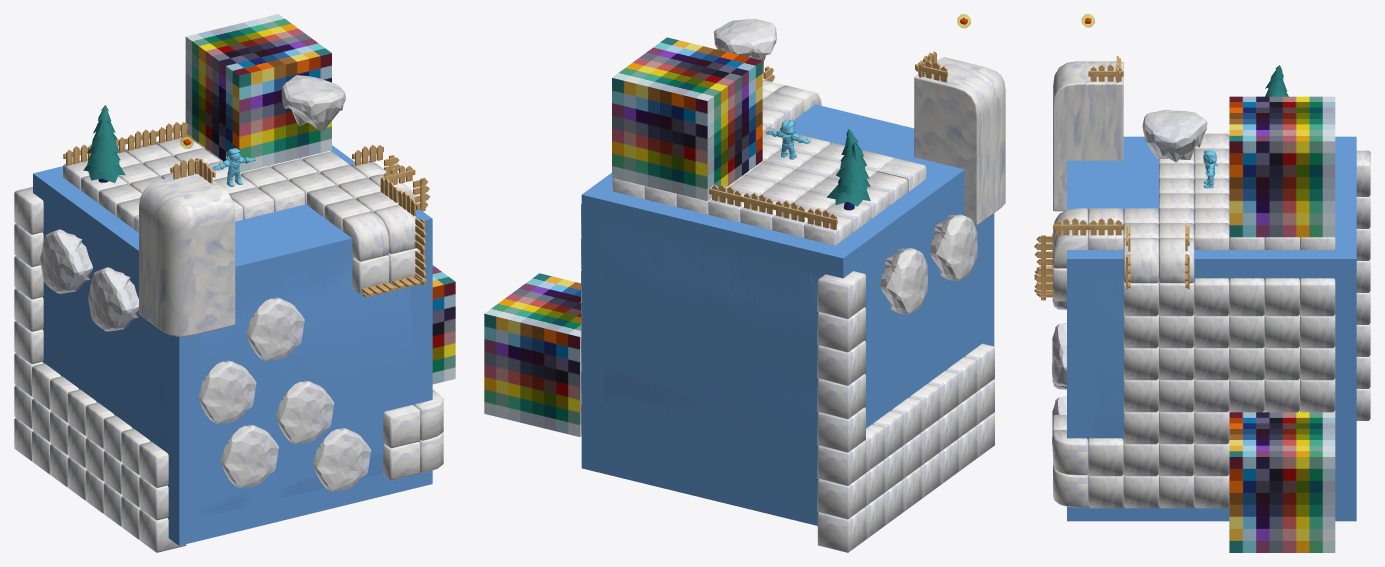
Rendered from Test_LvlCubico_colliders.FBX.
3 renders of one model, left to right at view 1: azimuth 30°, elevation 25°; view 2: azimuth 150°, elevation 25°; view 3: azimuth 270°, elevation 25°, orthographic. The views are drawn at different scales.
Parts seen in each view (by area): view 1: Box235, Agua, Box236, Box233, PROP_Ice_FlyingIsland105, PROP_Ice_FlyingIsland101, PROP_Ice_FlyingIsland102, PROP_Ice_FlyingIsland104, PROP_Ice_FlyingIsland103, Box284, PROP_Ice_FlyingIsland107, PROP_Ice_FlyingIsland106 (+52 smaller); view 2: Box235, Box236, Agua, Box284, Box233, PROP_Ice_FlyingIsland106, PROP_Ice_FlyingIsland107, PROP_Ice_FlyingIsland108, Box285, PROP_Ice_Tree034, Box288, Box286 (+32 smaller); view 3: Box235, Box236, Box284, Box233, Agua, PROP_Ice_FlyingIsland108, Box338, Box339, Box362, Box187, Box267, Box363 (+71 smaller).
Boxes of the visible parts, x1=… form: Box235: x1=33, y1=145, x2=432, y2=545; Agua: x1=151, y1=261, x2=410, y2=517; Box236: x1=185, y1=14, x2=331, y2=172; Box233: x1=139, y1=172, x2=235, y2=336; PROP_Ice_FlyingIsland105: x1=313, y1=428, x2=370, y2=491; PROP_Ice_FlyingIsland101: x1=198, y1=360, x2=256, y2=423; PROP_Ice_FlyingIsland102: x1=247, y1=297, x2=304, y2=360; PROP_Ice_FlyingIsland104: x1=276, y1=380, x2=334, y2=443; PROP_Ice_FlyingIsland103: x1=221, y1=424, x2=278, y2=487; Box284: x1=432, y1=265, x2=455, y2=384; PROP_Ice_FlyingIsland107: x1=40, y1=229, x2=92, y2=293; PROP_Ice_FlyingIsland106: x1=88, y1=267, x2=138, y2=331; Box235: x1=581, y1=104, x2=994, y2=525; Box236: x1=612, y1=37, x2=762, y2=201; Agua: x1=604, y1=223, x2=916, y2=454; Box284: x1=484, y1=273, x2=581, y2=436; Box233: x1=914, y1=57, x2=1005, y2=225; PROP_Ice_FlyingIsland106: x1=930, y1=214, x2=977, y2=280; PROP_Ice_FlyingIsland107: x1=880, y1=248, x2=928, y2=314; PROP_Ice_FlyingIsland108: x1=713, y1=19, x2=776, y2=64; Box285: x1=817, y1=271, x2=865, y2=319; PROP_Ice_Tree034: x1=826, y1=129, x2=870, y2=210; Box288: x1=817, y1=374, x2=865, y2=419; Box286: x1=817, y1=307, x2=865, y2=352; Box235: x1=1067, y1=136, x2=1356, y2=521; Box236: x1=1229, y1=96, x2=1335, y2=237; Box284: x1=1229, y1=412, x2=1335, y2=552; Box233: x1=1053, y1=61, x2=1123, y2=211; Agua: x1=1091, y1=281, x2=1123, y2=439; PROP_Ice_FlyingIsland108: x1=1142, y1=109, x2=1207, y2=162; Box338: x1=1123, y1=238, x2=1158, y2=283; Box339: x1=1159, y1=238, x2=1194, y2=283; Box362: x1=1053, y1=430, x2=1088, y2=475; Box187: x1=1229, y1=278, x2=1264, y2=316; Box267: x1=1300, y1=278, x2=1335, y2=316; Box363: x1=1088, y1=438, x2=1123, y2=476.
Size of what is drawn, in the model's own units: 12.51 by 12.7 by 9.53.
